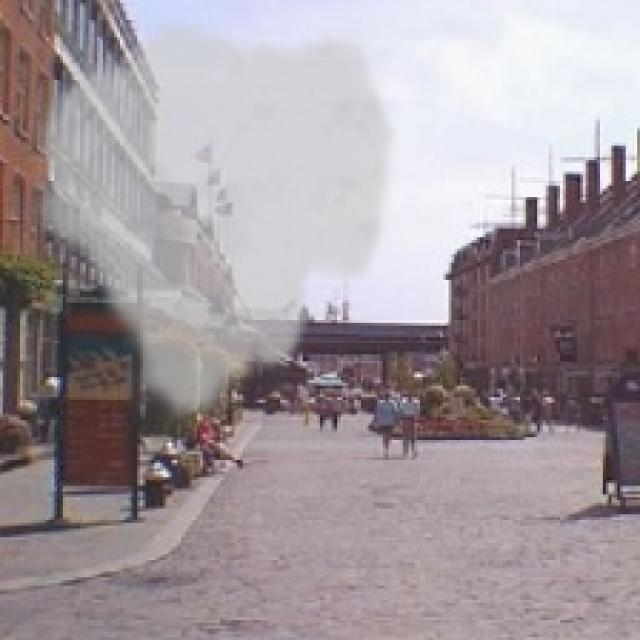smoke: (26, 17, 400, 429)
